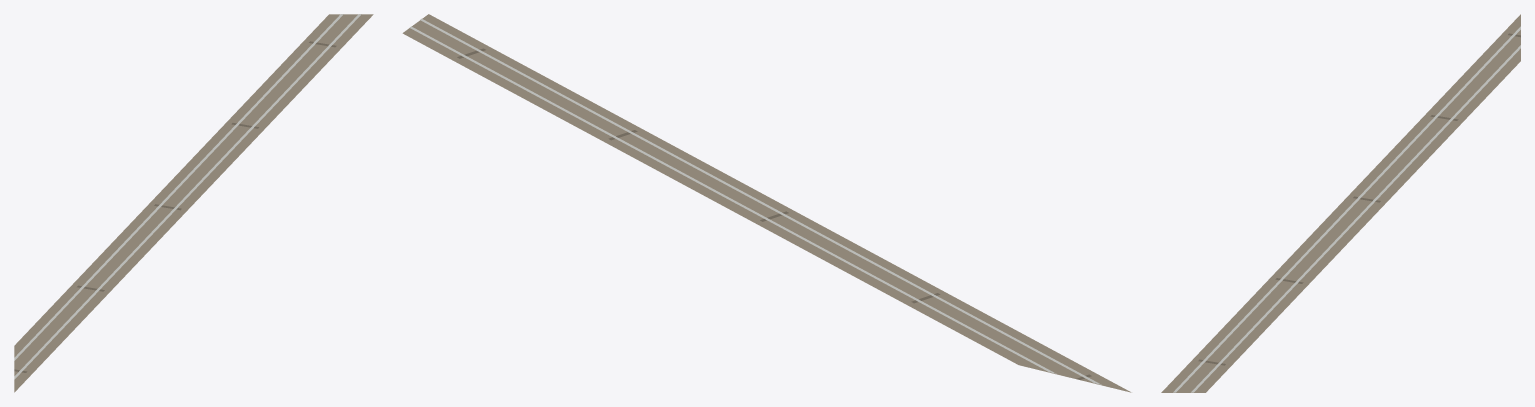
3 views of the same model, side by side, from view 1: azimuth 90°, elevation 25°; view 2: azimuth 150°, elevation 25°; view 3: azimuth 270°, elevation 25° (orthographic). The views are drawn at different scales.
Parts seen in each view (by area): view 1: rail; view 2: rail; view 3: rail.
Boxes of the visible parts, bbox=[...] form: rail: bbox=[14, 14, 373, 392]; rail: bbox=[402, 14, 1131, 392]; rail: bbox=[1161, 14, 1520, 392].
Size of the model in its own units: 77.67 by 0.04 by 31.17.
